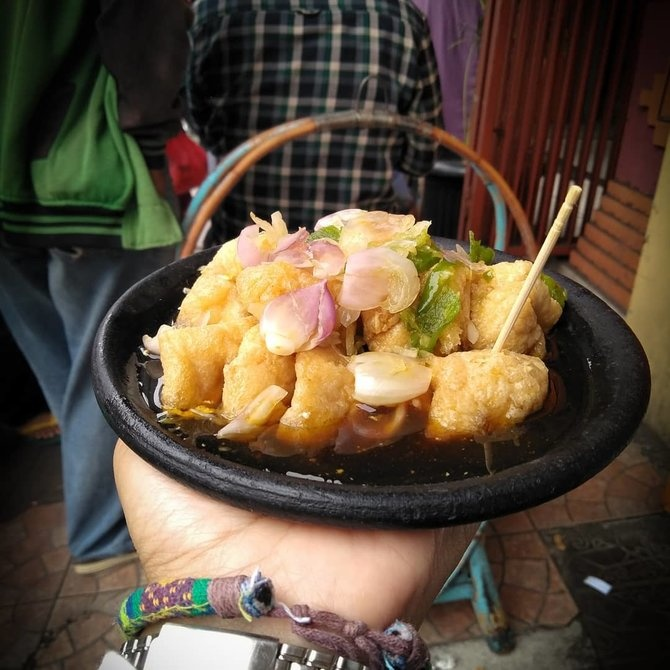tahu_gejrot: (139, 208, 566, 477)
